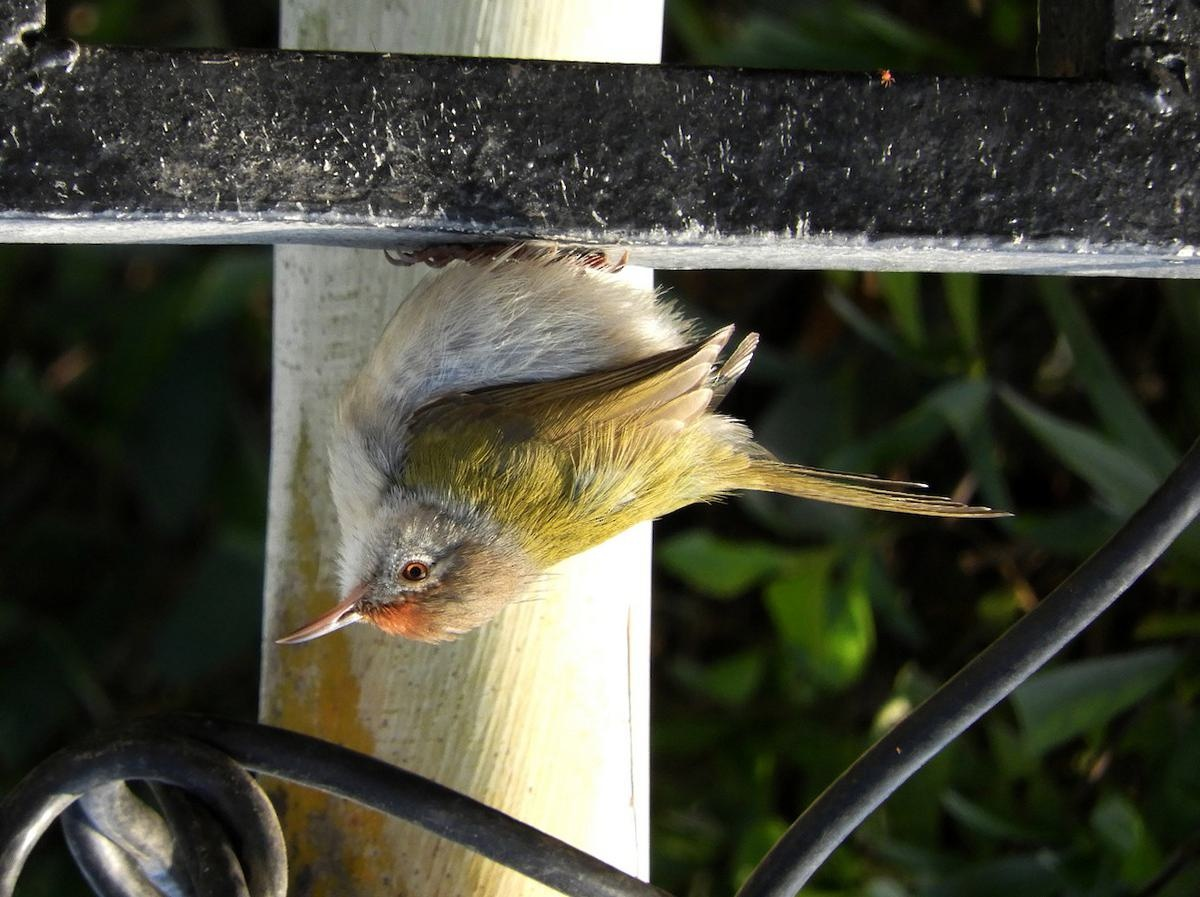tailorbird: (250, 241, 1028, 688)
